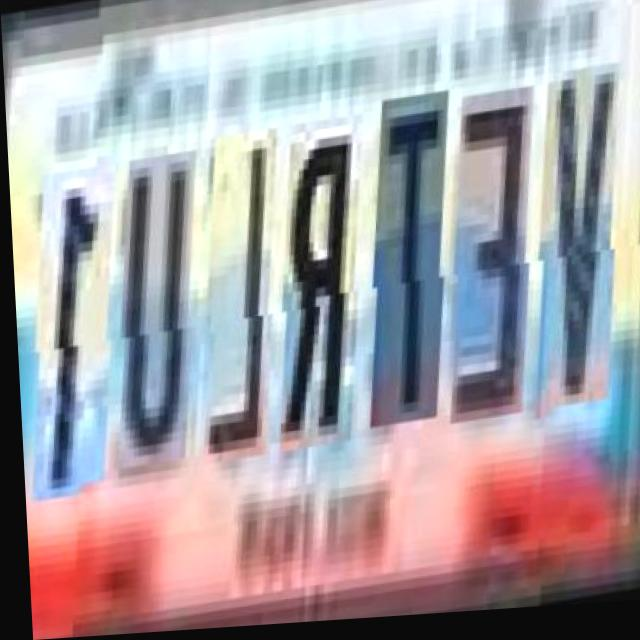1: (19, 143, 131, 480)
e: (437, 89, 549, 426)
l: (191, 123, 292, 459)
r: (267, 111, 378, 448)
t: (358, 91, 465, 428)
u: (105, 143, 211, 460)
v: (524, 79, 636, 425)
